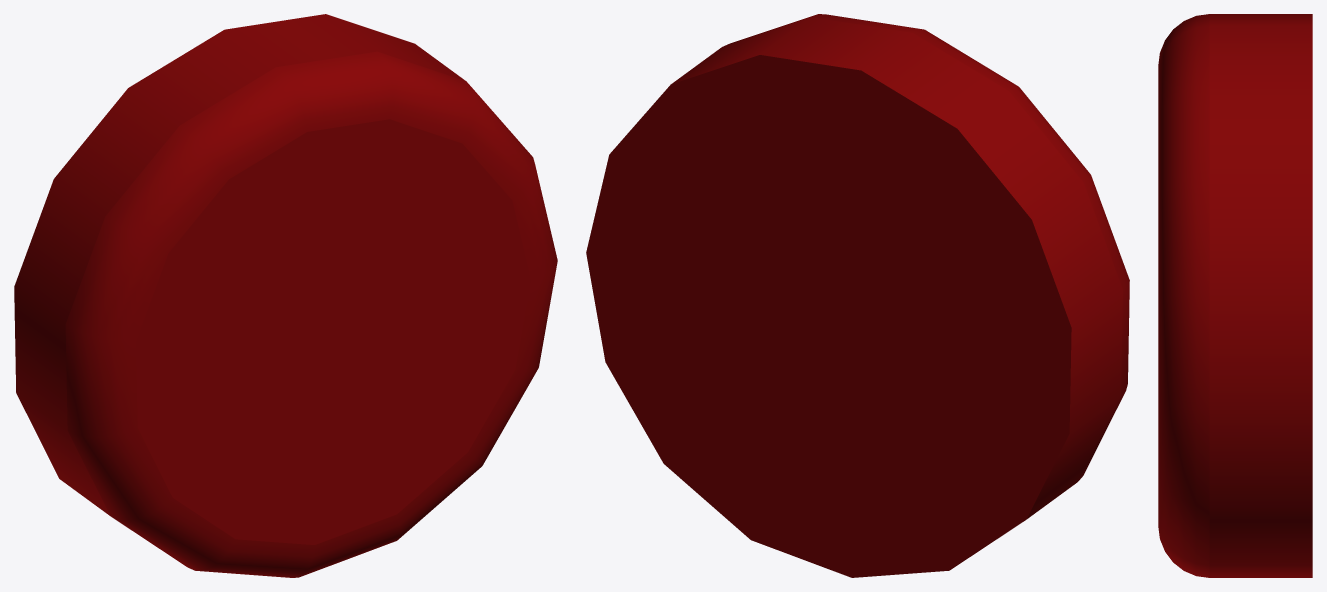
File: original-3.obj
3 renders of one model, left to right at view 1: azimuth 30°, elevation 25°; view 2: azimuth 150°, elevation 25°; view 3: azimuth 270°, elevation 25°, orthographic.
Parts seen in each view (by area): view 1: mesh3/mesh3-geometry#mesh3-geometry; view 2: mesh3/mesh3-geometry#mesh3-geometry; view 3: mesh3/mesh3-geometry#mesh3-geometry.
Part boxes in pixels (left/top/right/bottom): mesh3/mesh3-geometry#mesh3-geometry: left=14, top=14, right=557, bottom=577; mesh3/mesh3-geometry#mesh3-geometry: left=586, top=14, right=1129, bottom=577; mesh3/mesh3-geometry#mesh3-geometry: left=1158, top=14, right=1312, bottom=577.
Size of the model in its own units: 0.0287 by 0.0288 by 0.0079.
